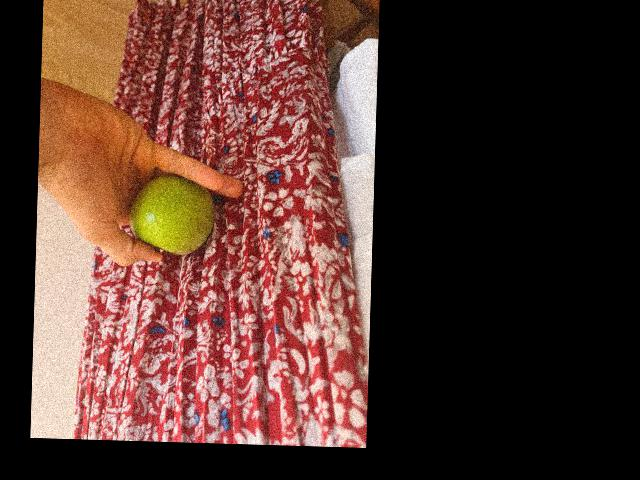apple: (138, 175, 214, 253)
